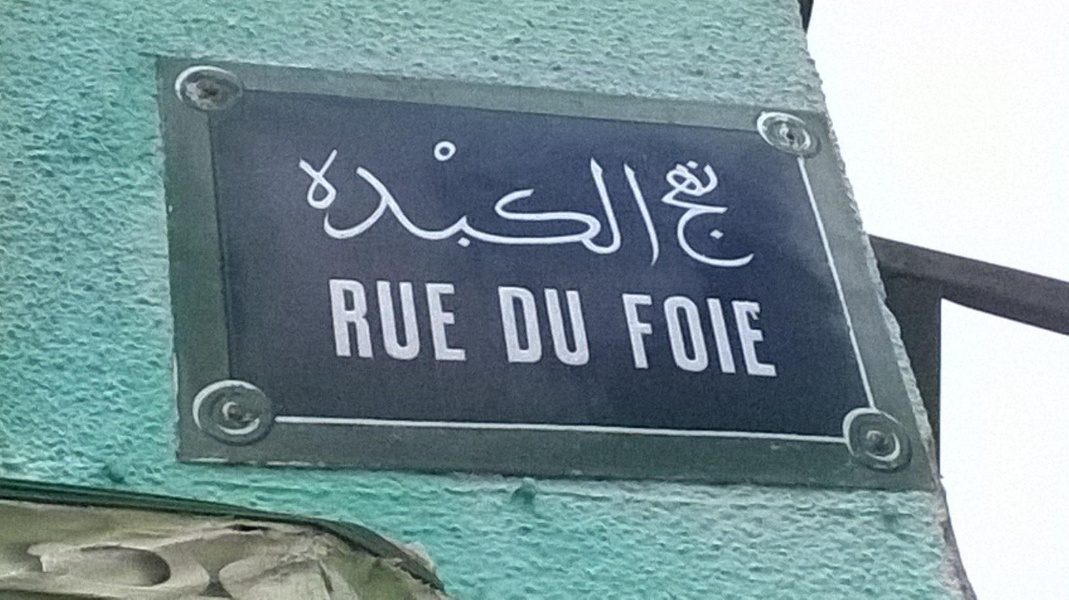text: (657, 128, 673, 272), (289, 128, 304, 272), (305, 128, 320, 272), (321, 128, 336, 272), (337, 128, 352, 272), (353, 128, 368, 272), (369, 128, 384, 272), (385, 128, 400, 272), (401, 128, 416, 272), (417, 128, 432, 272), (433, 128, 448, 272), (449, 128, 464, 272), (465, 128, 480, 272), (481, 128, 496, 272), (497, 128, 512, 272), (513, 128, 528, 272), (529, 128, 544, 272), (545, 128, 560, 272), (561, 128, 576, 272), (577, 128, 592, 272), (593, 128, 608, 272), (609, 128, 624, 272), (625, 128, 640, 272), (641, 128, 656, 272), (657, 156, 672, 269), (673, 156, 688, 269), (689, 156, 704, 269), (705, 156, 720, 269), (721, 156, 736, 269), (737, 156, 752, 269), (625, 293, 640, 378), (641, 293, 656, 378), (657, 293, 672, 378), (673, 293, 688, 378), (689, 293, 704, 378), (705, 293, 720, 378), (721, 293, 736, 378), (737, 293, 752, 378), (753, 293, 768, 378), (337, 279, 352, 363), (353, 279, 368, 363), (369, 279, 384, 363), (385, 279, 400, 363), (401, 279, 416, 363), (417, 279, 432, 363), (433, 279, 448, 363), (449, 279, 464, 363), (497, 285, 512, 365), (513, 285, 528, 365), (529, 285, 544, 365), (545, 285, 560, 365), (561, 285, 576, 365), (577, 285, 592, 365), (325, 279, 336, 363), (769, 293, 777, 378), (753, 156, 758, 269), (621, 293, 624, 378), (465, 279, 468, 363), (287, 128, 288, 272), (495, 285, 496, 365), (593, 285, 594, 365)
